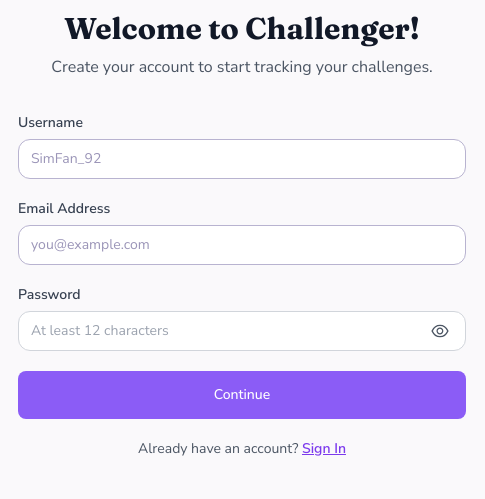
Test: AccountStep Component › Username Field Validation › shows error for invalid characters
This screenshot has width=485, height=499.
Type "Test User!" into the field labelled "Username" at (242, 159), box [18,139,466,179]
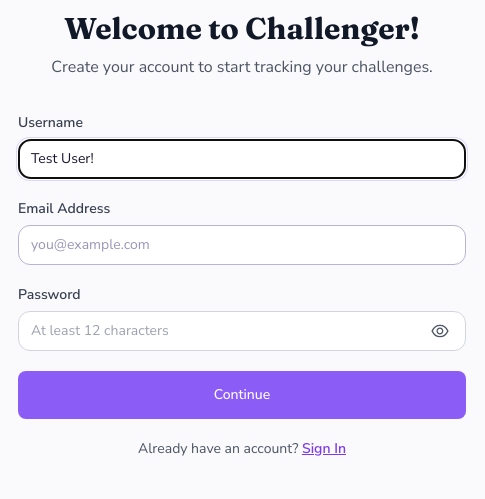
Press Tab
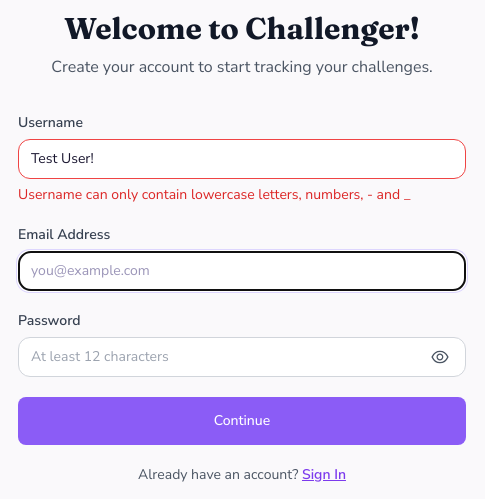
Expected: the text "Username can only contain" is shown, [18,185,411,204]
